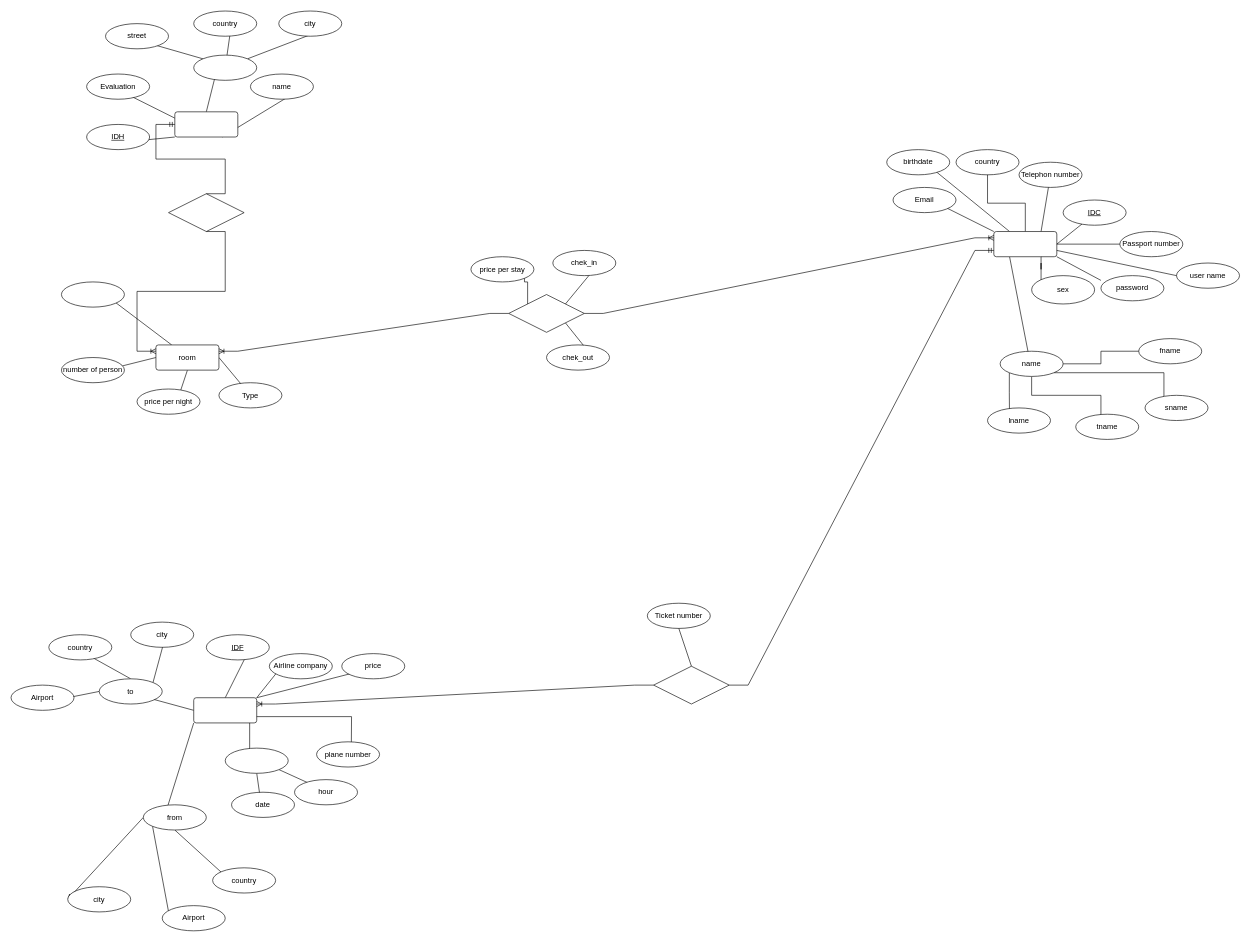
Image size: 1251x944. Some labels were removed from this diagram. The shapes that lost their labels are listed below. From the top down, each one's box as (x1, y1, x2, y2) in pixels, then its label:
(193, 54, 257, 80): address
(174, 111, 238, 137): Hotel
(168, 193, 244, 232): has
(993, 231, 1057, 257): Customer
(61, 281, 124, 307): IDR
(508, 294, 584, 332): room reservation
(653, 666, 729, 704): Ticket
(193, 697, 257, 723): Flights
(225, 747, 288, 773): time
